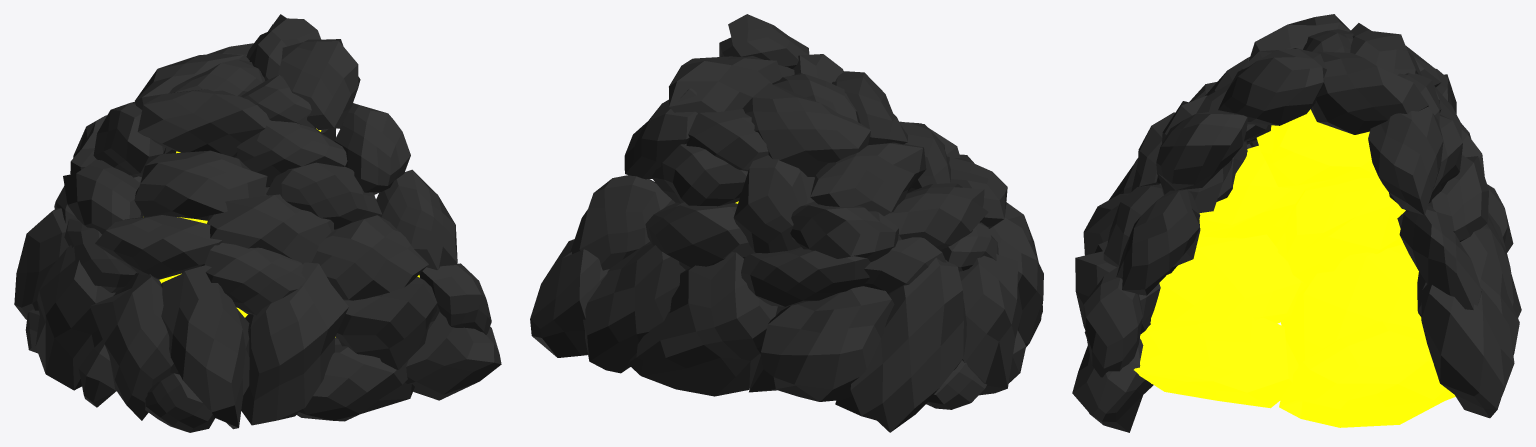
The model's file is Kopalnia.glb.
3 renders of one model, left to right at view 1: azimuth 30°, elevation 25°; view 2: azimuth 150°, elevation 25°; view 3: azimuth 270°, elevation 25°, orthographic. The views are drawn at different scales.
Visible parts, largest first — view 1: Cube; view 2: Cube; view 3: Cube.
Part boxes in pixels (x1=…): Cube: x1=14, y1=14, x2=501, y2=432; Cube: x1=530, y1=14, x2=1043, y2=432; Cube: x1=1072, y1=14, x2=1521, y2=432.
Bounding box in the file's own units: 9.91 × 7.87 × 8.99.
